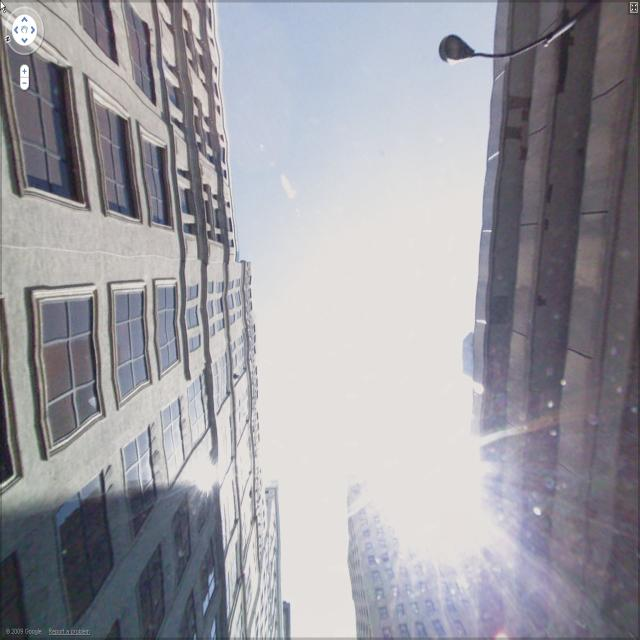b_1: (1, 1, 301, 625), (474, 1, 638, 626), (345, 444, 456, 640)
